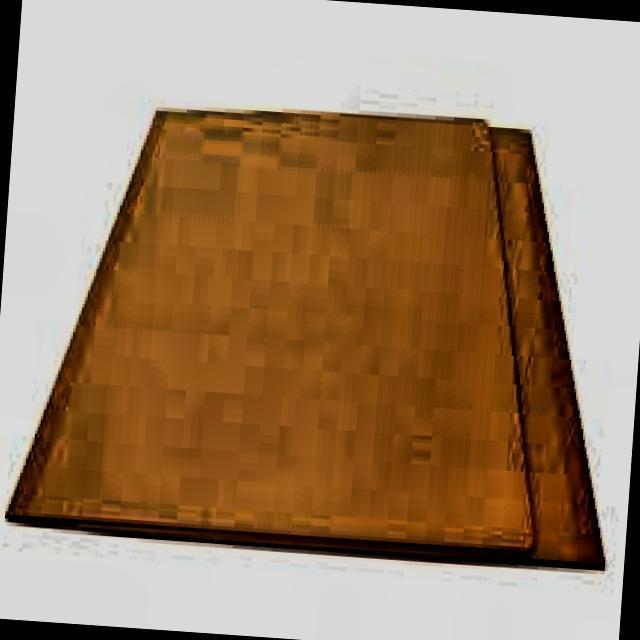cardboard: (3, 84, 636, 570)
